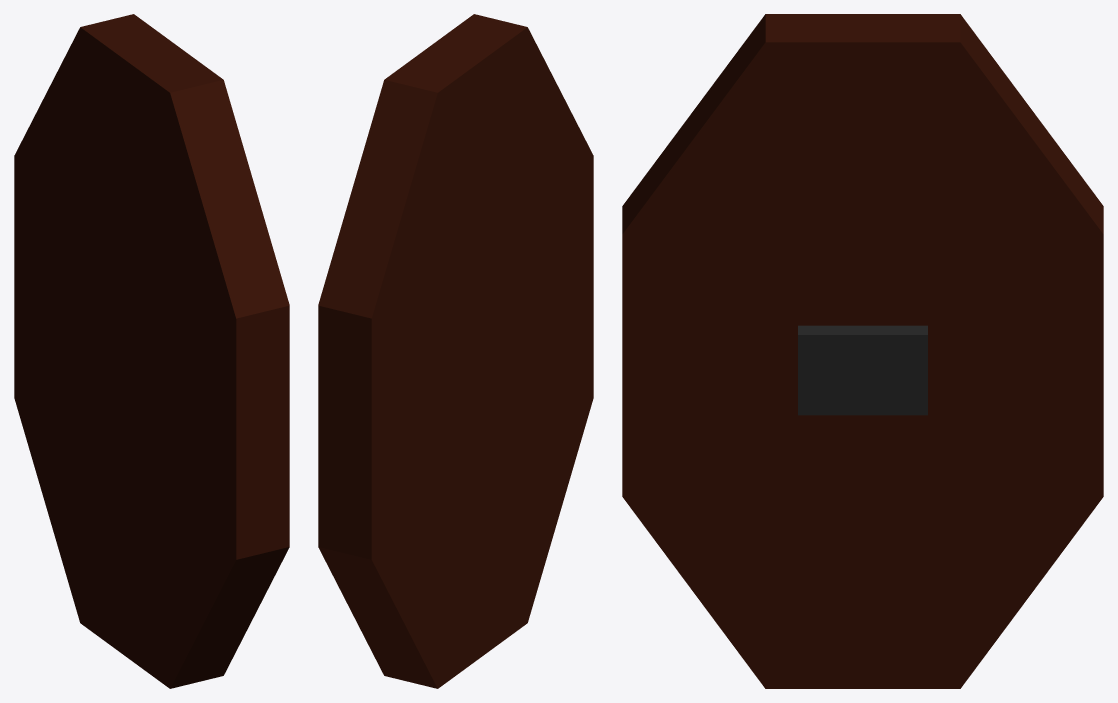
Rendered from shield.obj.
3 views of the same model, side by side, from view 1: azimuth 30°, elevation 25°; view 2: azimuth 150°, elevation 25°; view 3: azimuth 270°, elevation 25° (orthographic). The views are drawn at different scales.
Parts seen in each view (by area): view 1: Cube; view 2: Cube; view 3: Cube.
Part boxes in pixels (bbox=[...]): Cube: bbox=[14, 14, 289, 688]; Cube: bbox=[318, 14, 593, 688]; Cube: bbox=[622, 14, 1103, 688].
Size of the model in its own units: 0.2515 by 2 by 1.35.
